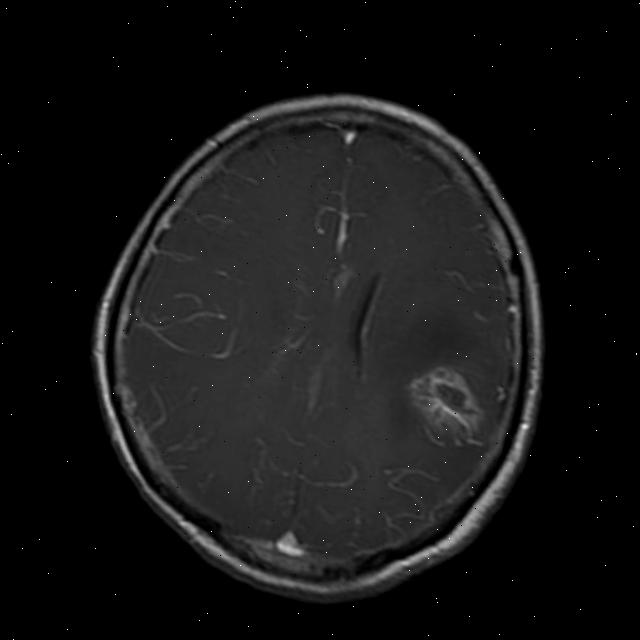Glioma: (397, 355, 494, 451)
